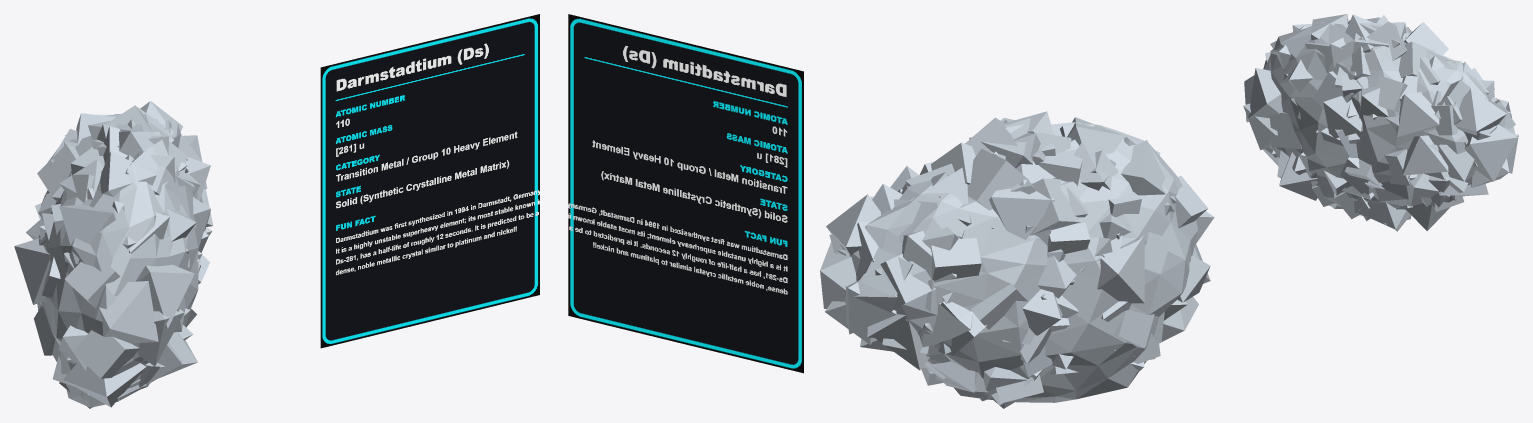
The model's file is darmstadtium.glb.
3 renders of one model, left to right at view 1: azimuth 30°, elevation 25°; view 2: azimuth 150°, elevation 25°; view 3: azimuth 270°, elevation 25°, orthographic. The views are drawn at different scales.
Visible parts, largest first — view 1: Mesh_452, Mesh_0, Mesh_62, Mesh_270, Mesh_326, Mesh_310, Mesh_368, Mesh_316, Mesh_201, Mesh_50, Mesh_343, Mesh_301 (+13 smaller); view 2: Mesh_452, Mesh_0, Mesh_316, Mesh_120, Mesh_230, Mesh_283, Mesh_368, Mesh_387, Mesh_118, Mesh_343, Mesh_69, Mesh_66 (+28 smaller); view 3: Mesh_0, Mesh_387, Mesh_118, Mesh_376, Mesh_270, Mesh_187, Mesh_435, Mesh_205, Mesh_97, Mesh_341, Mesh_122, Mesh_233 (+30 smaller).
Boxes of the visible parts, x1,y1,x2,y2 form: Mesh_452: [320, 14, 539, 348]; Mesh_0: [37, 114, 205, 407]; Mesh_62: [99, 281, 158, 343]; Mesh_270: [135, 264, 194, 328]; Mesh_326: [73, 330, 139, 378]; Mesh_310: [63, 363, 146, 407]; Mesh_368: [59, 204, 115, 263]; Mesh_316: [14, 238, 50, 304]; Mesh_201: [100, 151, 156, 196]; Mesh_50: [65, 261, 120, 308]; Mesh_343: [37, 144, 79, 202]; Mesh_301: [138, 309, 184, 366]; Mesh_452: [568, 14, 803, 373]; Mesh_0: [849, 122, 1198, 402]; Mesh_316: [1097, 235, 1144, 303]; Mesh_120: [989, 188, 1054, 239]; Mesh_230: [967, 148, 1029, 210]; Mesh_283: [931, 238, 981, 280]; Mesh_368: [1120, 140, 1176, 203]; Mesh_387: [820, 242, 856, 308]; Mesh_118: [826, 194, 880, 255]; Mesh_343: [1032, 178, 1080, 234]; Mesh_69: [845, 280, 896, 334]; Mesh_66: [1022, 289, 1062, 335]; Mesh_0: [1263, 22, 1500, 216]; Mesh_387: [1464, 124, 1517, 181]; Mesh_118: [1455, 89, 1506, 135]; Mesh_376: [1396, 92, 1439, 137]; Mesh_270: [1248, 68, 1282, 119]; Mesh_187: [1402, 135, 1448, 175]; Mesh_435: [1323, 96, 1362, 138]; Mesh_205: [1438, 144, 1475, 181]; Mesh_97: [1279, 152, 1317, 200]; Mesh_341: [1269, 112, 1301, 148]; Mesh_122: [1357, 201, 1406, 229]; Mesh_233: [1375, 76, 1407, 112].
Size of the model in its own units: 2.8 by 1.42 by 1.54.
2 materials, 1 textured.
